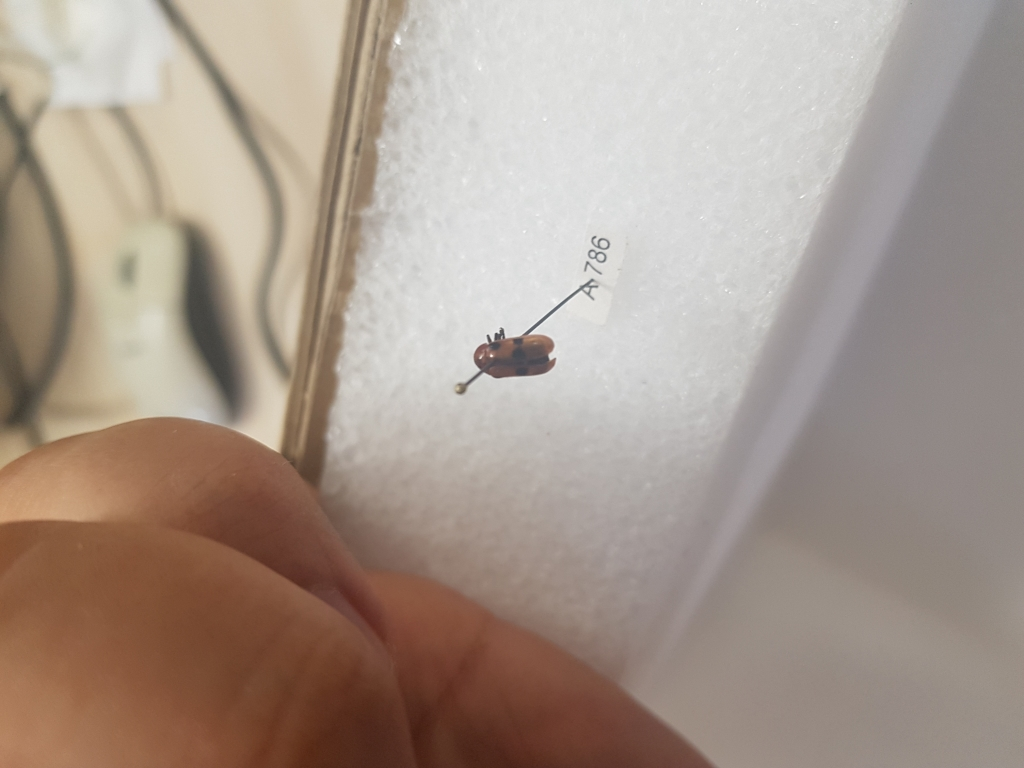Clytra_novempunctata: (469, 326, 564, 383)
